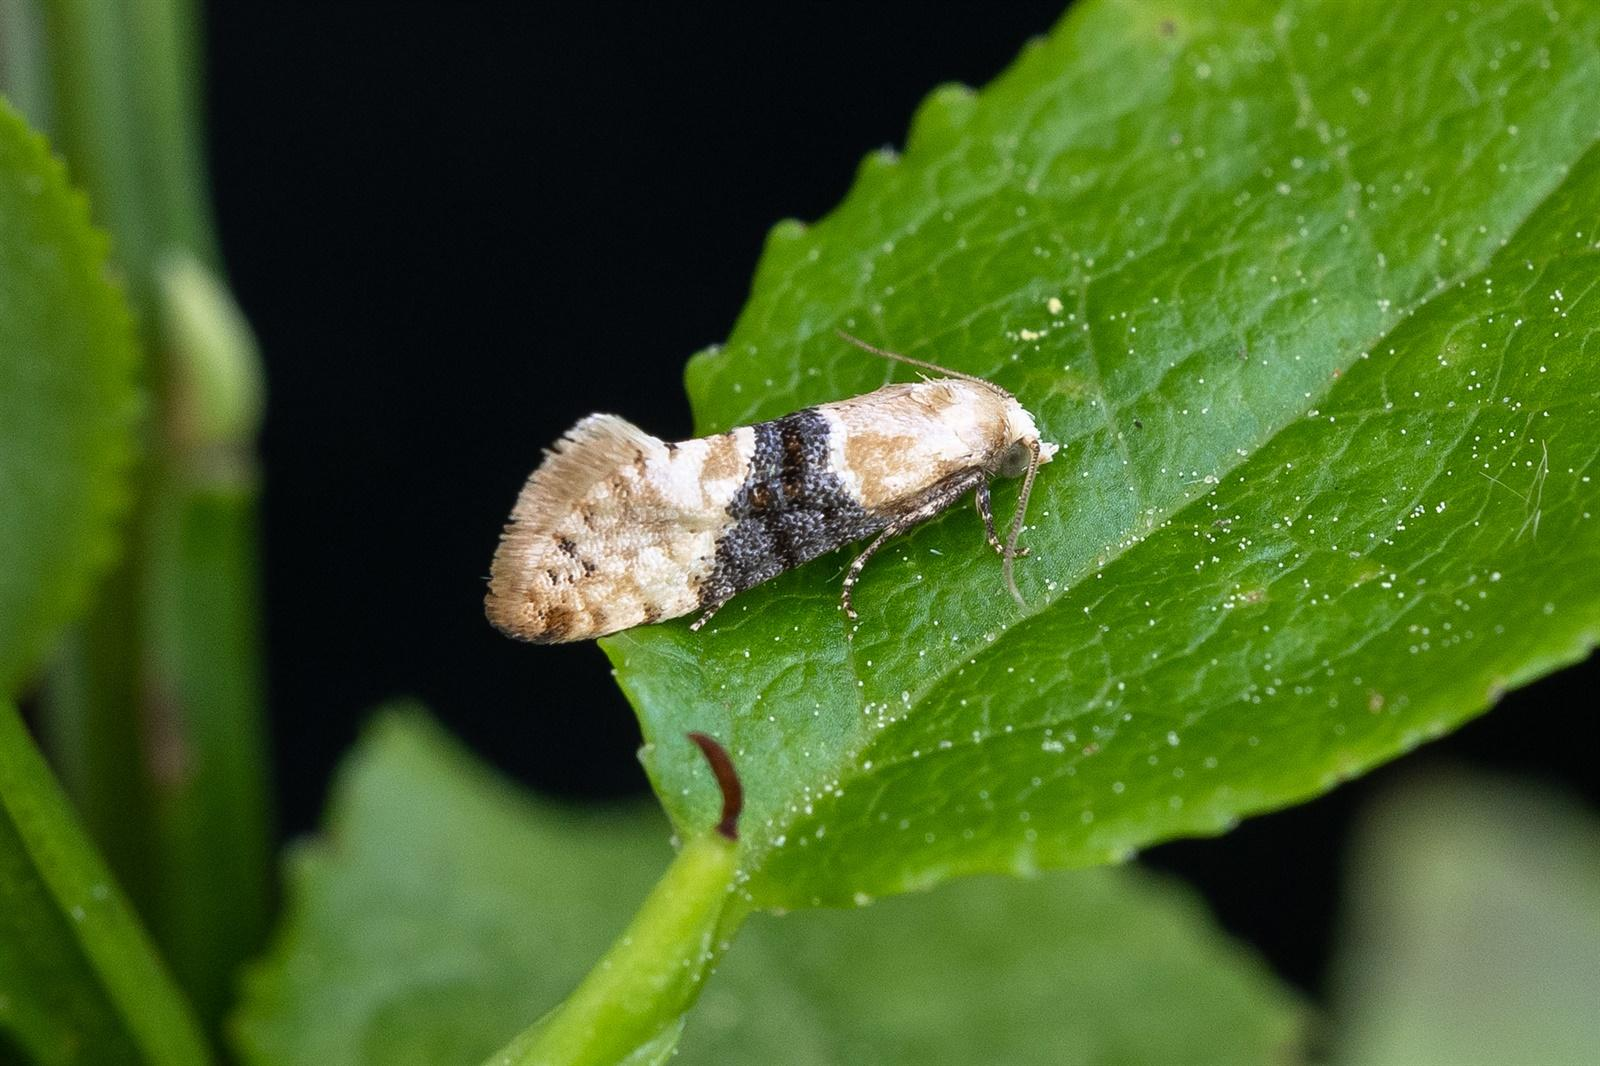Eupoecilia Ambiguella: (479, 327, 1058, 651)
